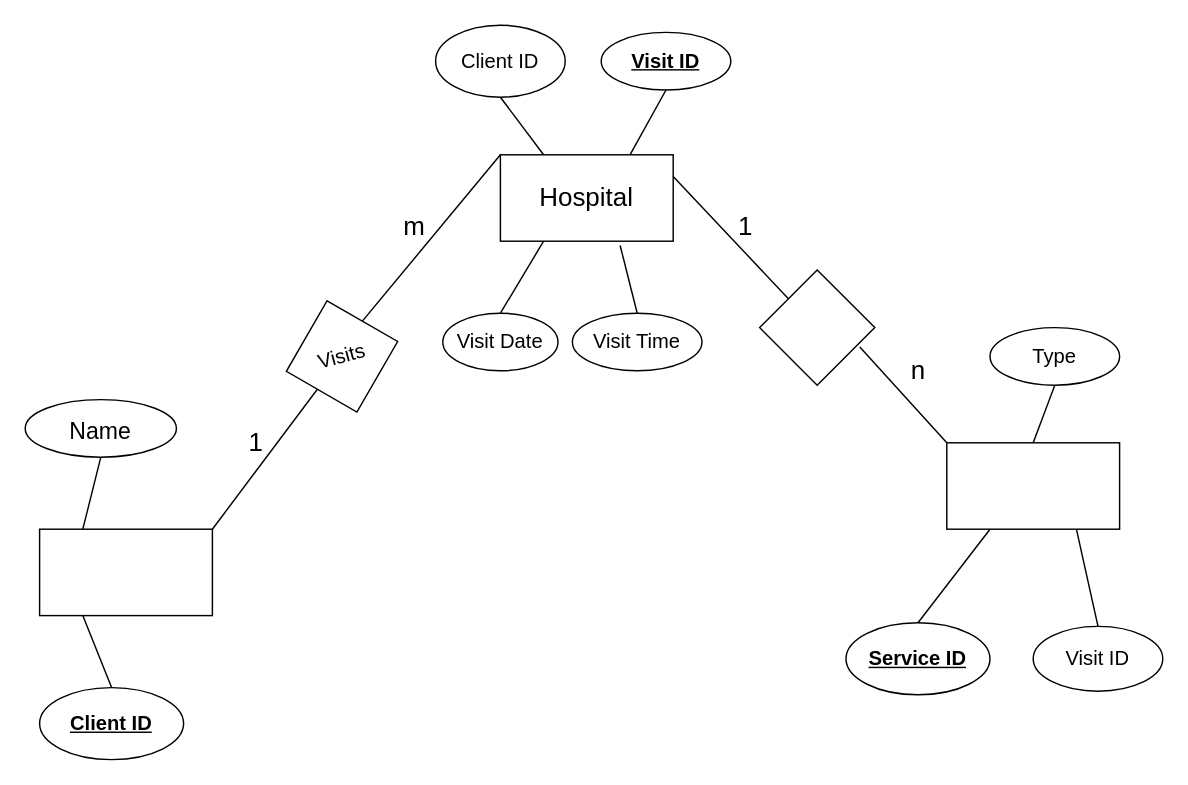
The diagram is 1188 pixels wide and 785 high, and some of its shapes have lost their labels. Each missing label, with the centre of its shape:
Client: the point at 125,572
Provides: the point at 816,327
Services: the point at 1032,485
